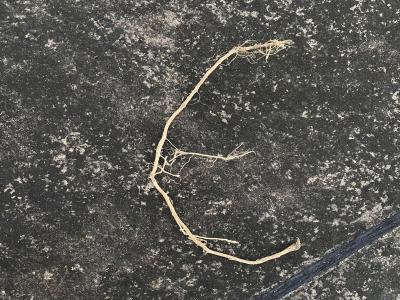Root: (149, 40, 300, 264)
